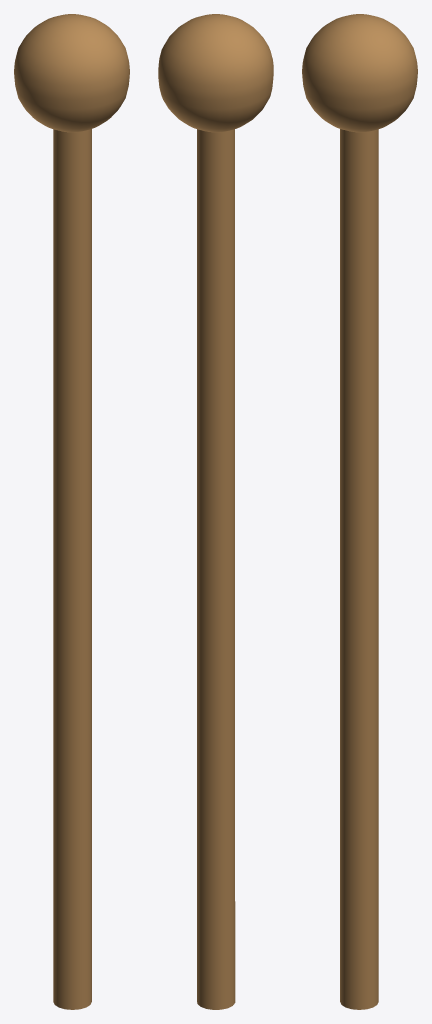
The model's file is toy29.fbx.
The picture shows the model from 3 angles, left to right: view 1: azimuth 90°, elevation 25°; view 2: azimuth 150°, elevation 25°; view 3: azimuth 270°, elevation 25°; orthographic projection.
Parts seen in each view (by area): view 1: Cylinder.017; view 2: Cylinder.017; view 3: Cylinder.017.
Part boxes in pixels (left/top/right/bottom): Cylinder.017: left=14, top=14, right=129, bottom=1009; Cylinder.017: left=158, top=14, right=273, bottom=1009; Cylinder.017: left=302, top=14, right=417, bottom=1009.
Size of the model in its own units: 0.0427 by 0.0427 by 0.3999.
